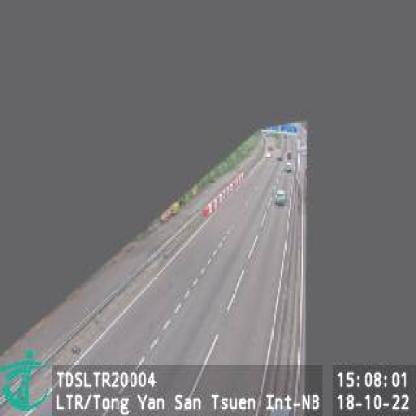Car: (274, 188, 288, 206), (284, 162, 293, 174)
